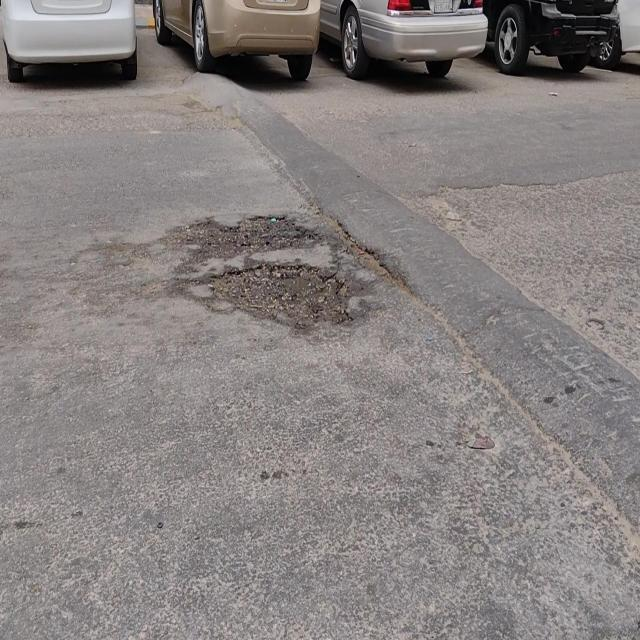Pothole: (211, 268, 352, 327), (188, 215, 313, 263)
Unmarked Bump: (191, 74, 640, 526)
